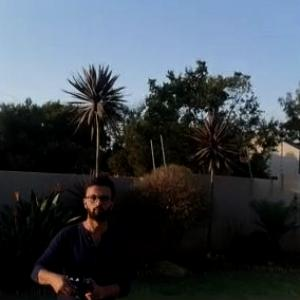follow: (21, 167, 132, 299)
